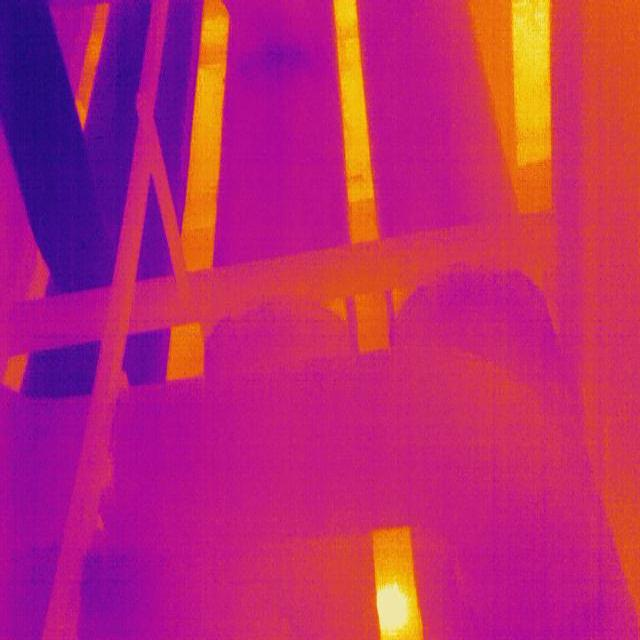leakage: (234, 40, 316, 82)
